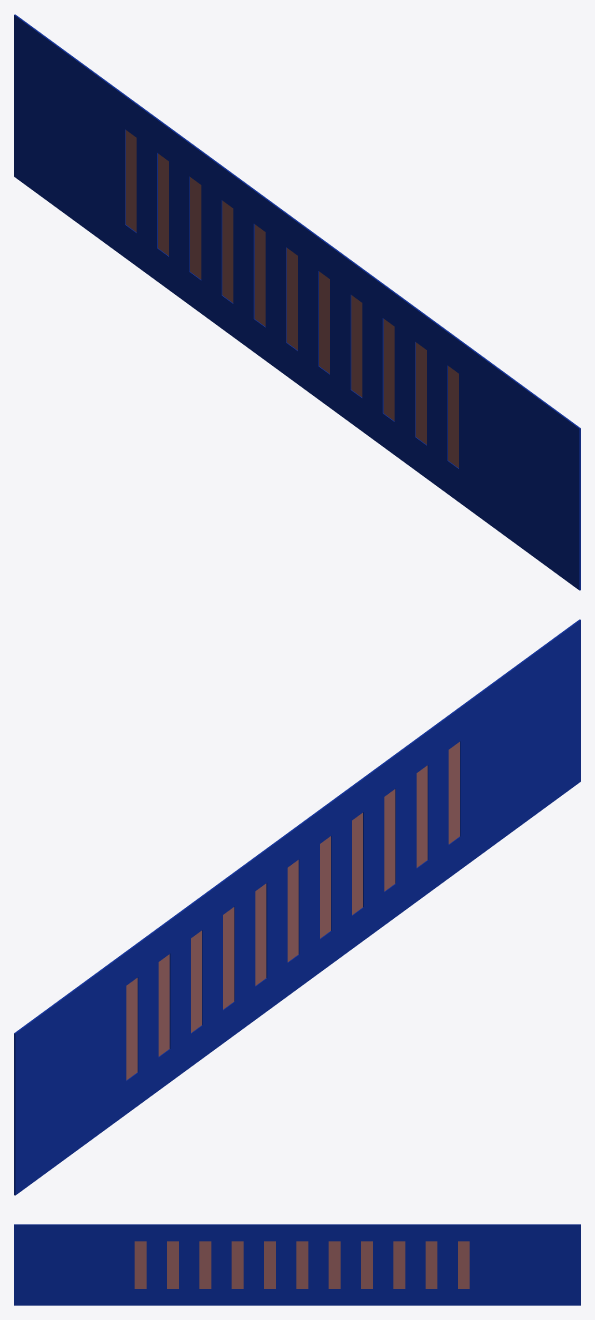
Rendered from 10x63 Rails.FBX.
3 renders of one model, top to bottom at view 1: azimuth 30°, elevation 25°; view 2: azimuth 150°, elevation 25°; view 3: azimuth 270°, elevation 25°, orthographic. The views are drawn at different scales.
Visible parts, largest first — view 1: Med Wall 10 Windows001; view 2: Med Wall 10 Windows001; view 3: Med Wall 10 Windows001.
Boxes of the visible parts, box(x1,y1,x2,y2) form: Med Wall 10 Windows001: box(14, 14, 580, 590); Med Wall 10 Windows001: box(14, 619, 580, 1195); Med Wall 10 Windows001: box(14, 1224, 580, 1305).
Size of the model in its own units: 0.1 by 10 by 63.36.
